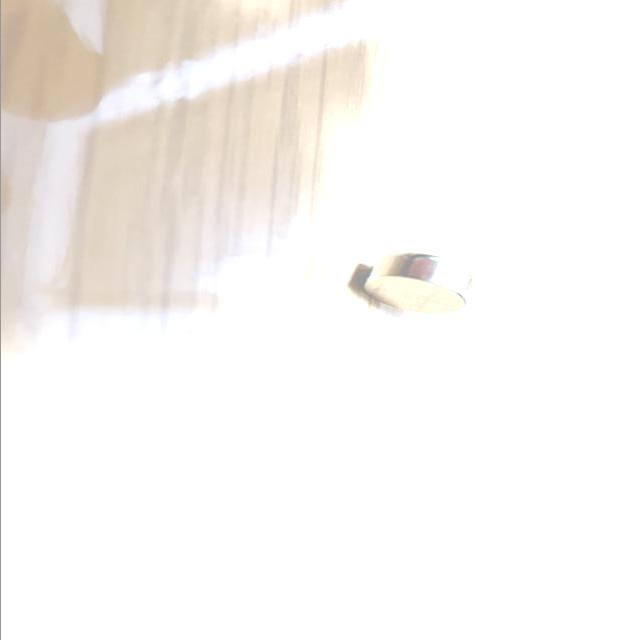COIN: (356, 252, 475, 315)
